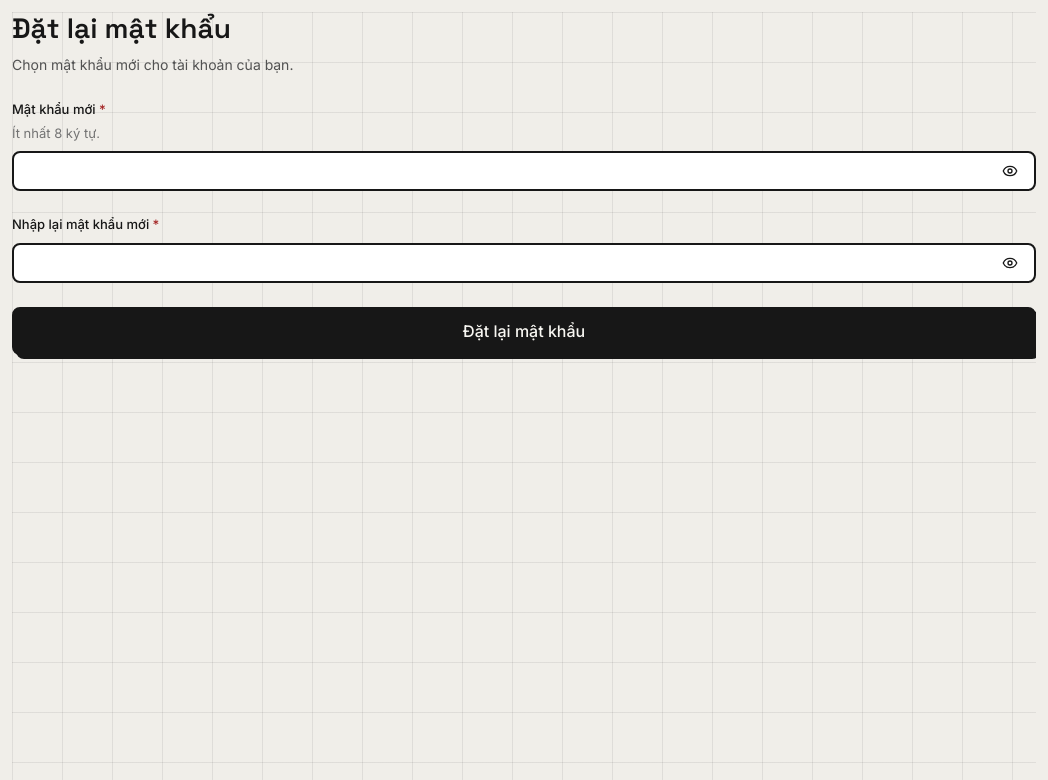
Test: ResetPasswordForm › rejects a short password and a mismatch
Type "short" into the password field labelled "Mật khẩu mới *" at [508, 171], box [26,153,990,189]
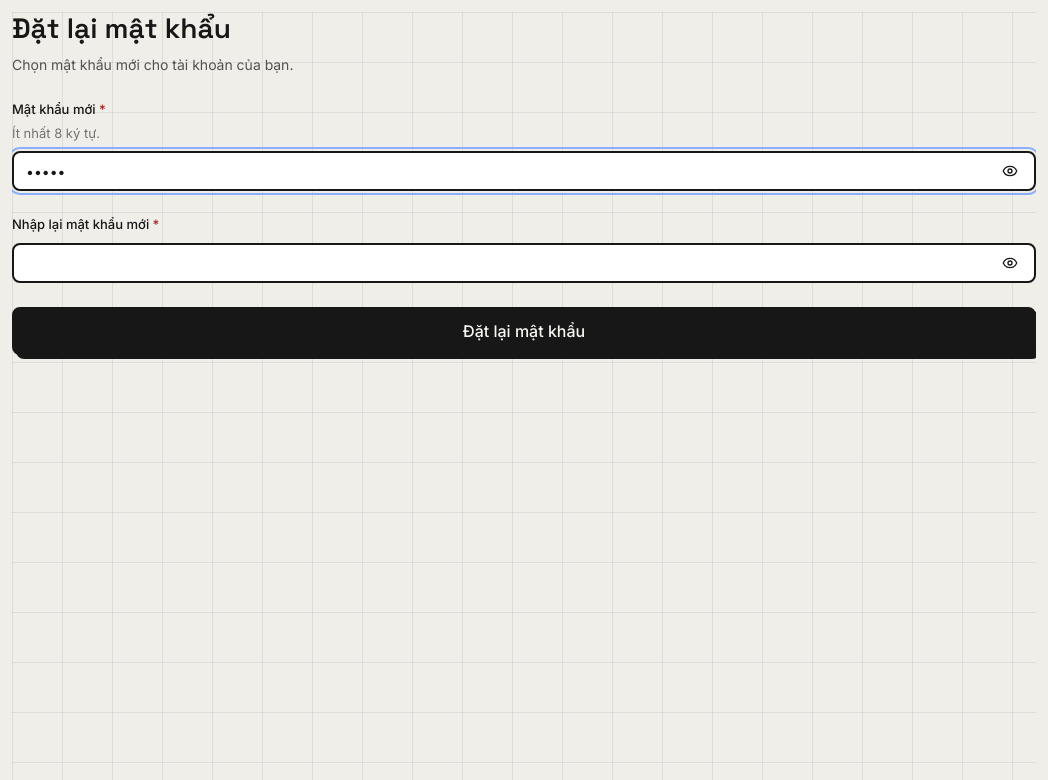
Click the button "Đặt lại mật khẩu" at [524, 331], box [12,307,1036,355]
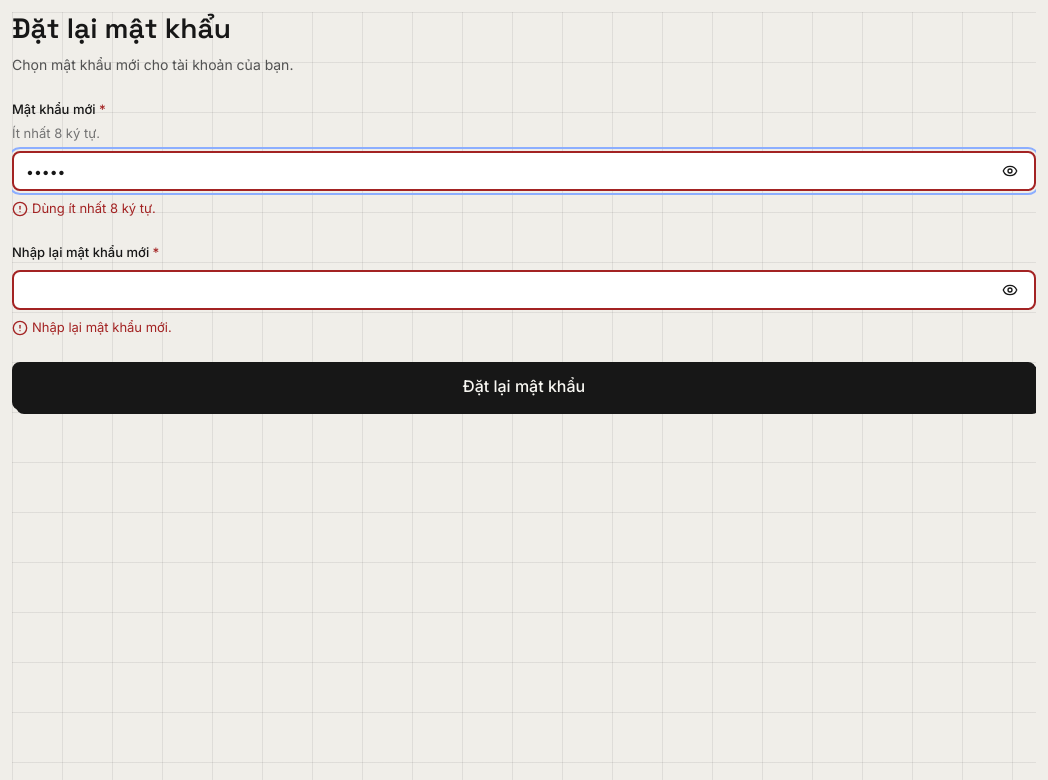
Expected: the text "Dùng ít nhất 8 ký tự." is shown, [32,199,156,219]
Type "matkhau123" into the password field labelled "Mật khẩu mới *" at [508, 171], box [26,153,990,189]
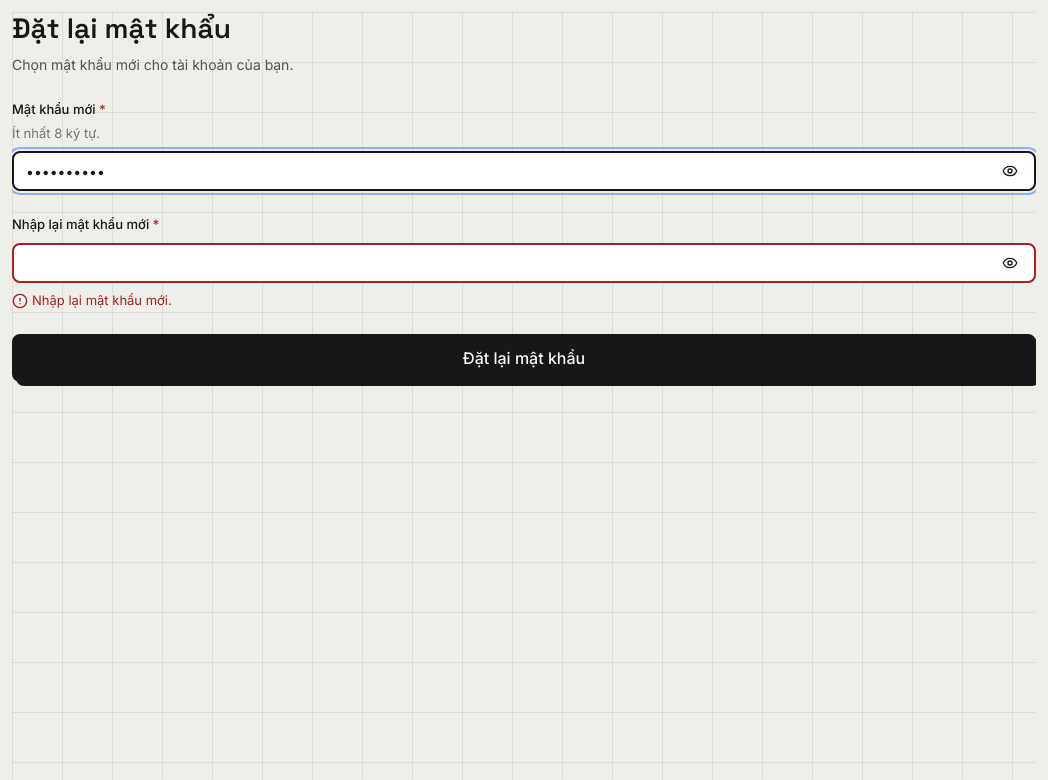
Type "khacnhau123" into the password field labelled "Nhập lại mật khẩu mới *" at [508, 263], box [26,245,990,281]
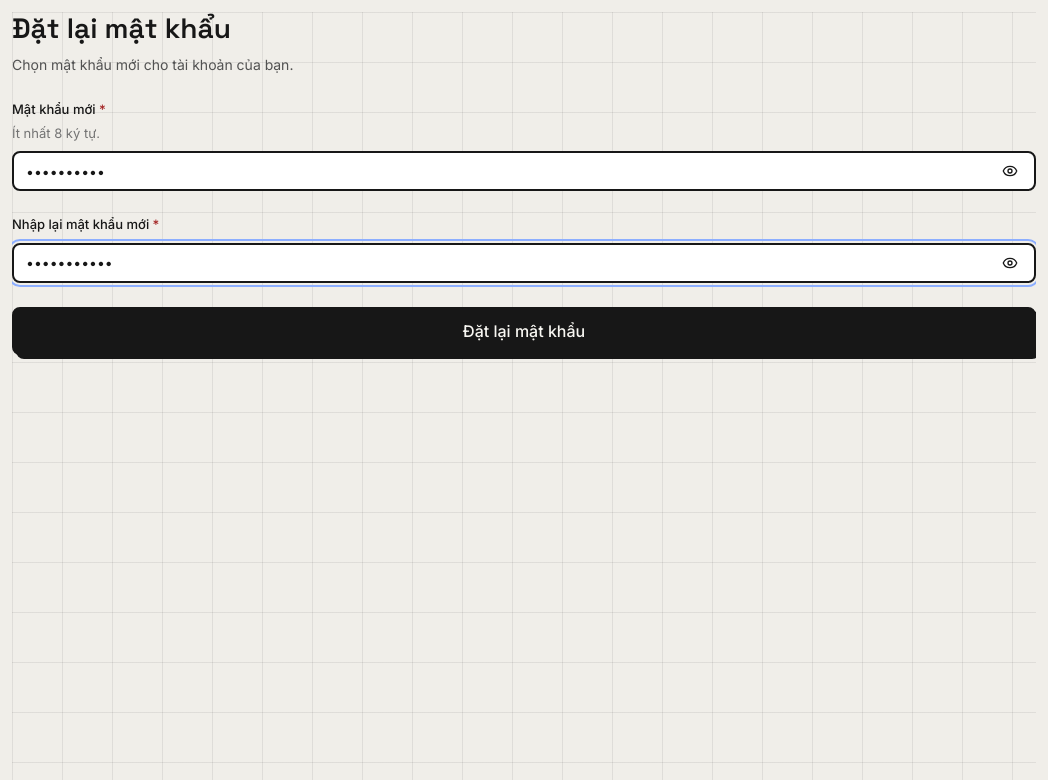
Click the button "Đặt lại mật khẩu" at [524, 331], box [12,307,1036,355]
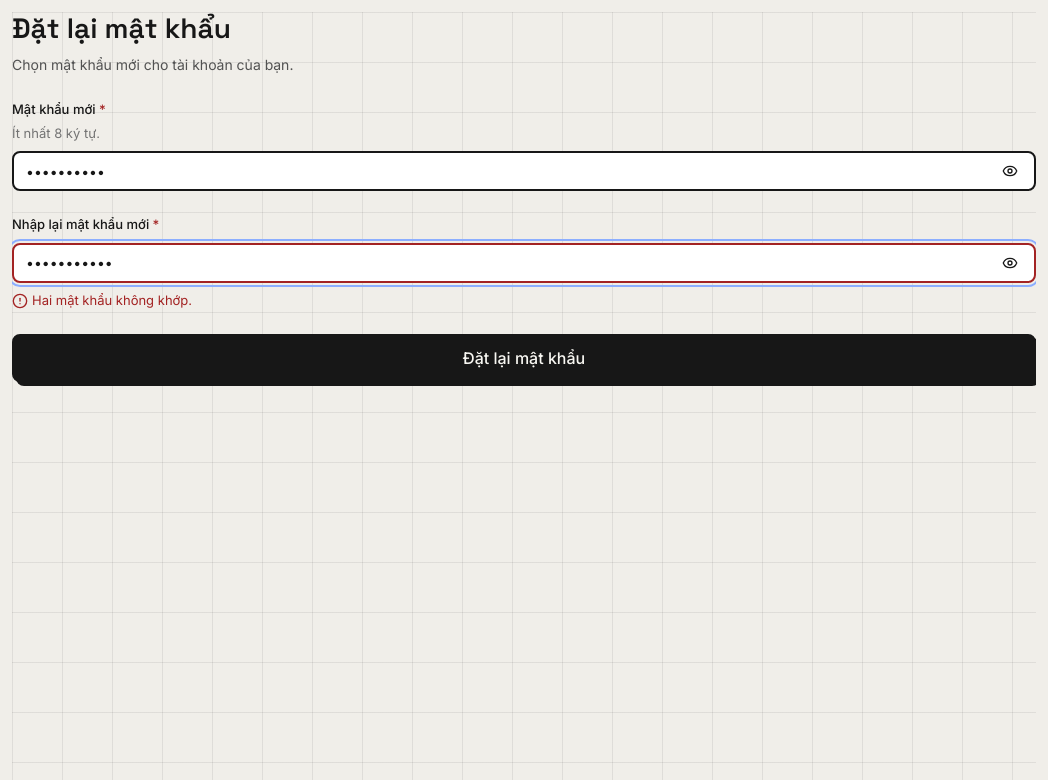
Expected: the text "Hai mật khẩu không khớp." is shown, [32,291,192,310]
